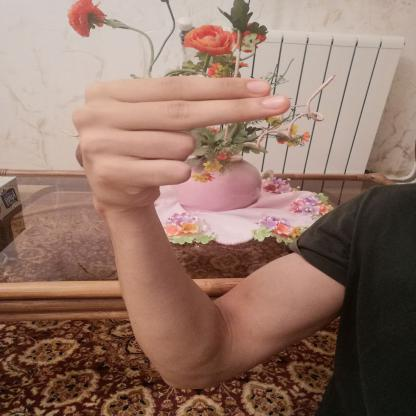AYN: (56, 65, 307, 223)
